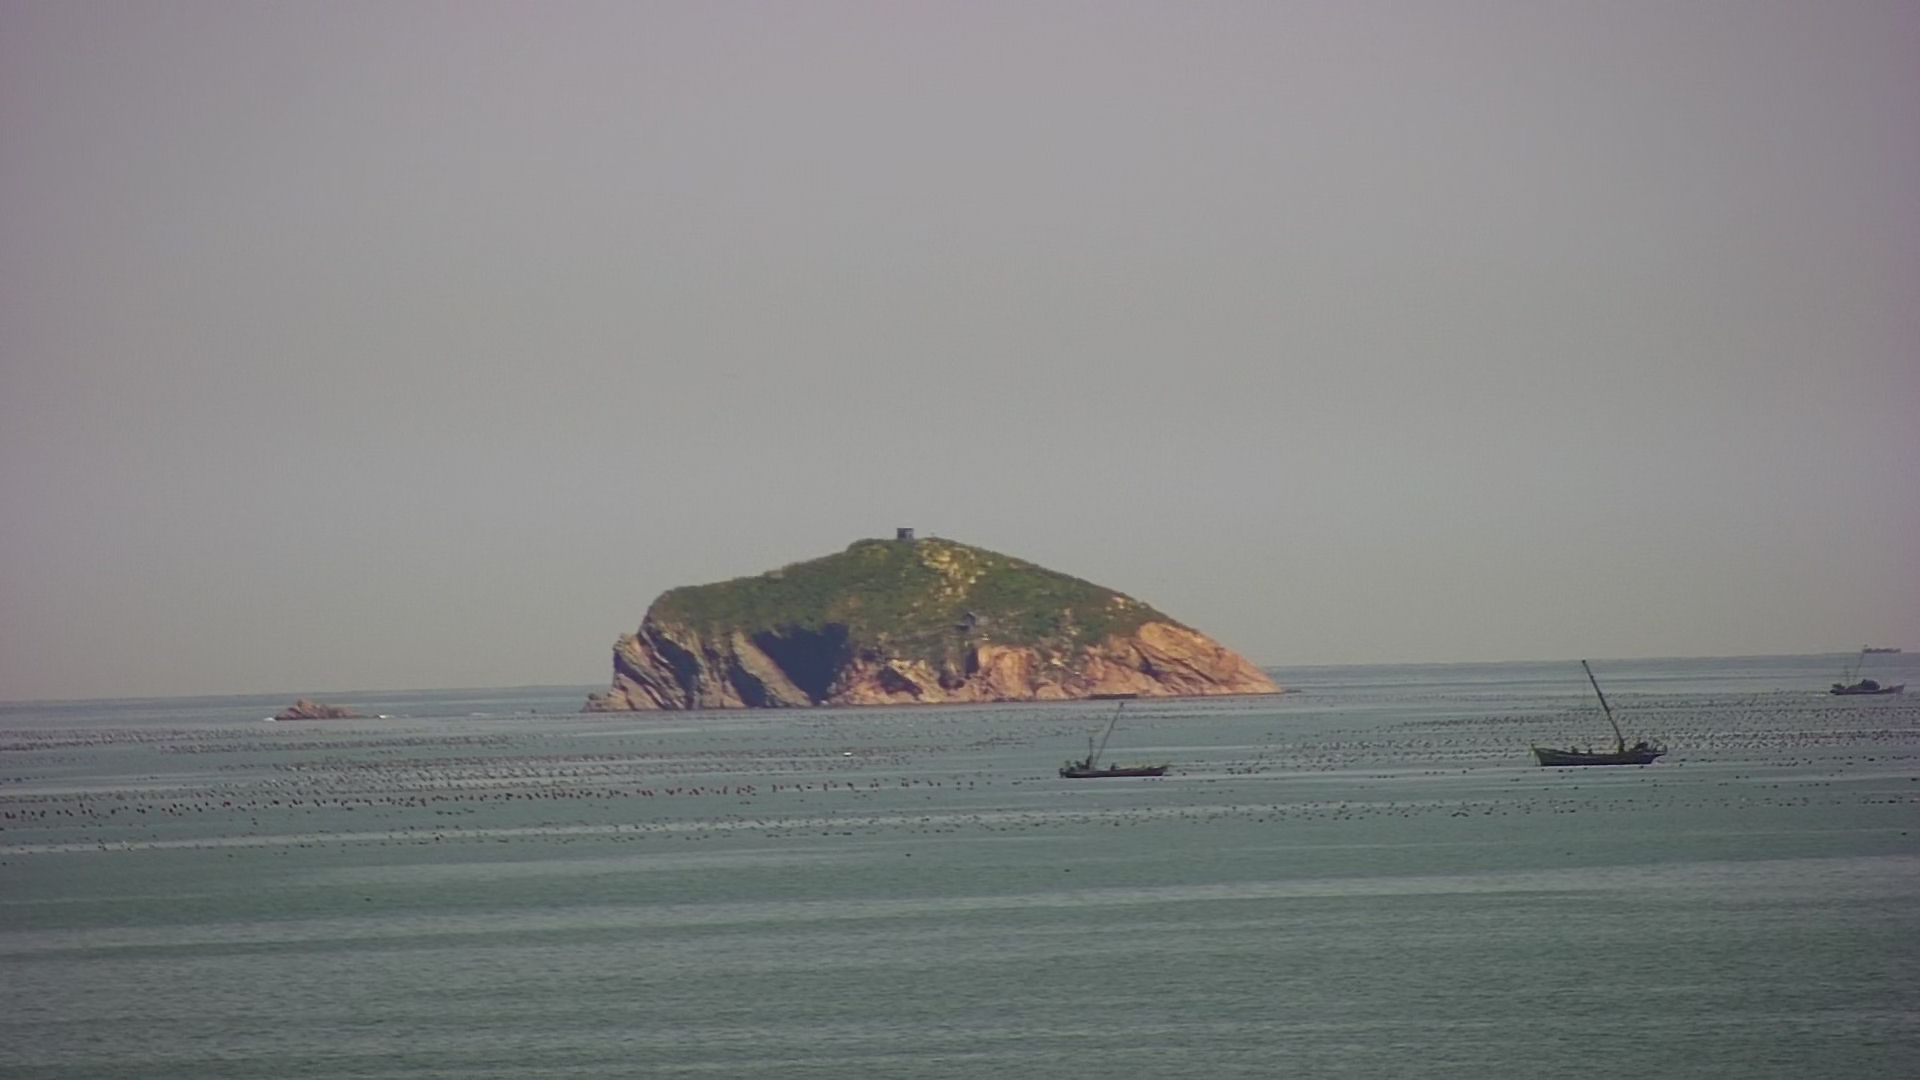boat: (1528, 651, 1673, 769), (1059, 687, 1174, 782), (1830, 644, 1904, 698)
rock: (578, 526, 1302, 715), (260, 691, 367, 727)
